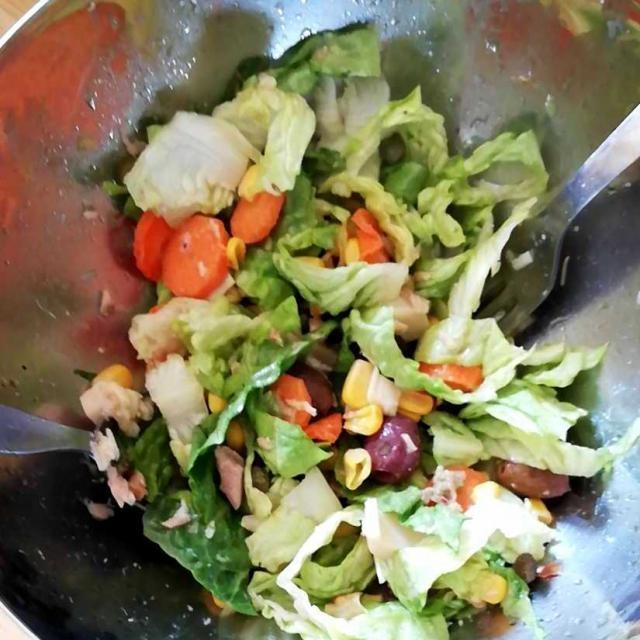mixed-vegetables: (113, 198, 593, 616)
salad: (28, 15, 612, 623)
